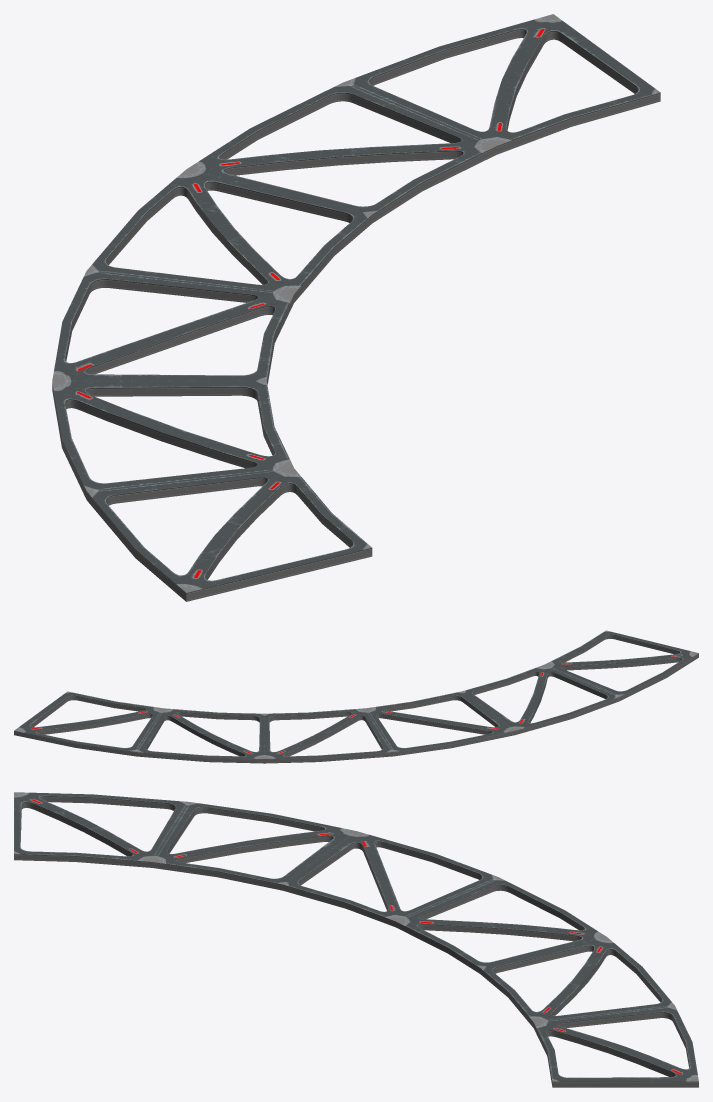
The model's file is Column_MetalSupport_Curve.gltf.
3 renders of one model, top to bottom at view 1: azimuth 30°, elevation 25°; view 2: azimuth 150°, elevation 25°; view 3: azimuth 270°, elevation 25°, orthographic. The views are drawn at different scales.
Parts seen in each view (by area): view 1: Column_MetalSupport_Curve; view 2: Column_MetalSupport_Curve; view 3: Column_MetalSupport_Curve.
Boxes of the visible parts, x1,y1,x2,y2 form: Column_MetalSupport_Curve: (52, 14, 660, 601); Column_MetalSupport_Curve: (14, 630, 698, 763); Column_MetalSupport_Curve: (14, 792, 698, 1087).
Size of the model in its own units: 4.47 by 0.044 by 4.47.
2 materials, 2 textured.
